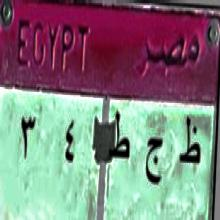3: (14, 105, 38, 168)
4: (58, 114, 82, 169)
Taa: (103, 108, 133, 173)
Thaa: (178, 114, 204, 179)
jeem: (139, 126, 169, 202)
